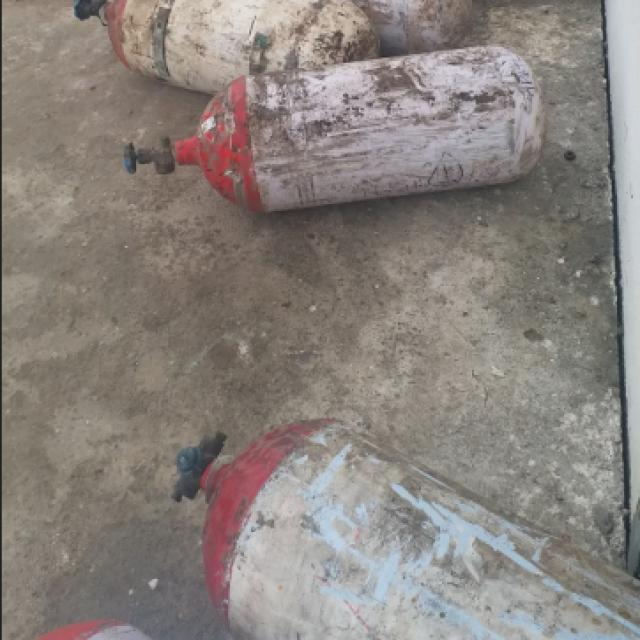cylinder: (171, 417, 638, 637), (122, 44, 546, 214)
